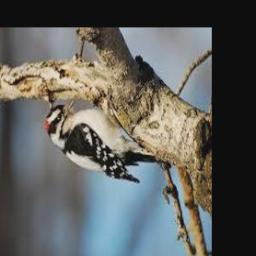Woodpecker: (46, 97, 164, 183)
